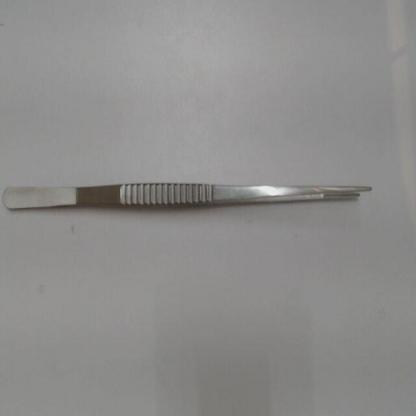DeBakey Dissector: (2, 169, 382, 218)
